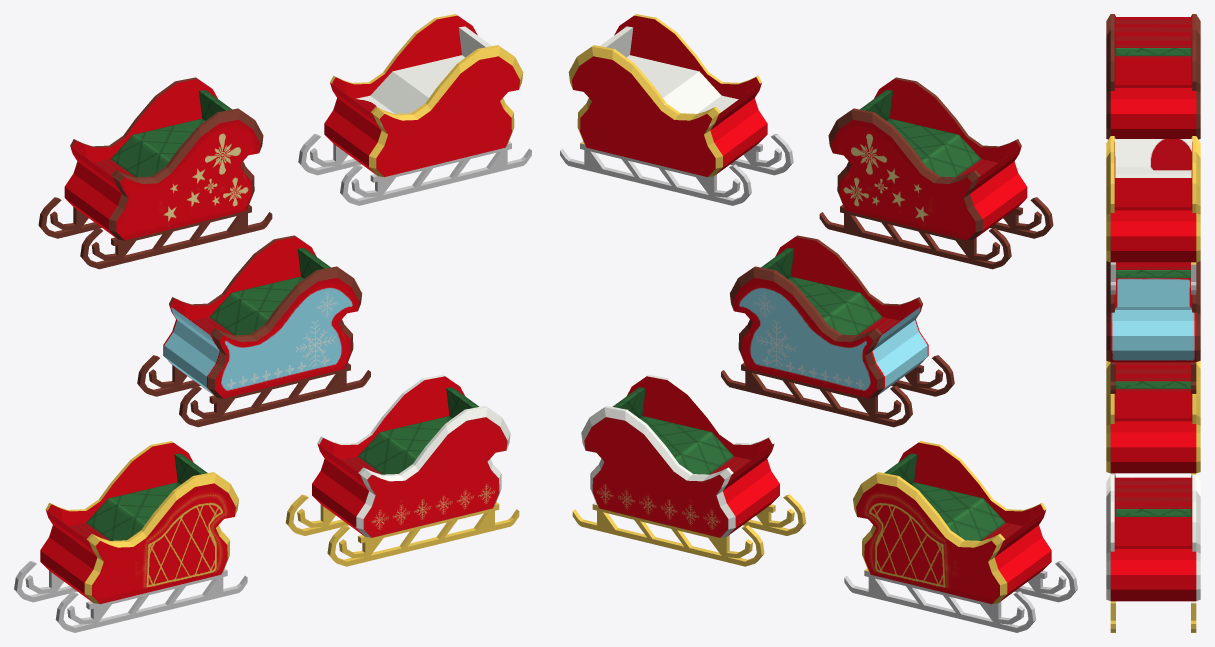
The model's file is Sleighs.fbx.
3 views of the same model, side by side, from view 1: azimuth 30°, elevation 25°; view 2: azimuth 150°, elevation 25°; view 3: azimuth 270°, elevation 25° (orthographic). The views are drawn at different scales.
Visible parts, largest first — view 1: Sleigh 2, Sleigh 4, Sleigh 1, Sleigh 5, Sleigh 3; view 2: Sleigh 2, Sleigh 4, Sleigh 5, Sleigh 1, Sleigh 3; view 3: Sleigh 4, Sleigh 1, Sleigh 2, Sleigh 5, Sleigh 3.
Part boxes in pixels (<box>): Sleigh 2: <box>38,77,272,269</box>; Sleigh 4: <box>285,375,519,566</box>; Sleigh 1: <box>298,14,531,205</box>; Sleigh 5: <box>14,441,247,632</box>; Sleigh 3: <box>137,235,370,427</box>; Sleigh 2: <box>819,77,1053,269</box>; Sleigh 4: <box>572,375,806,566</box>; Sleigh 5: <box>844,441,1077,632</box>; Sleigh 1: <box>560,14,793,205</box>; Sleigh 3: <box>721,235,954,427</box>; Sleigh 4: <box>1106,474,1200,632</box>; Sleigh 1: <box>1106,136,1200,294</box>; Sleigh 2: <box>1106,14,1200,139</box>; Sleigh 5: <box>1106,361,1200,476</box>; Sleigh 3: <box>1106,261,1200,393</box>.
Bounding box in the file's own units: 8.99 × 8.78 × 1.61.
